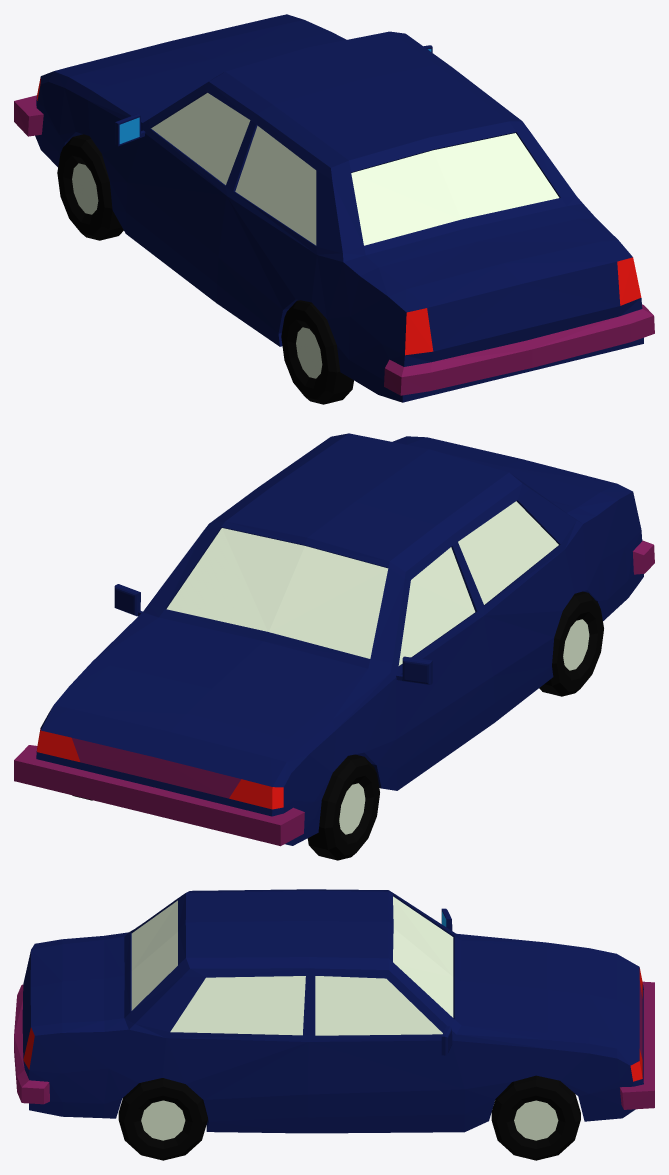
File: car_2.obj
The picture shows the model from 3 angles, top to bottom: view 1: azimuth 30°, elevation 25°; view 2: azimuth 150°, elevation 25°; view 3: azimuth 270°, elevation 25°; orthographic projection. The views are drawn at different scales.
Visible parts, largest first — view 1: body.003, tire2.002, tire1.004; view 2: body.003, tire1.004, tire2.002; view 3: body.003, tire1.004, tire2.002.
Boxes of the visible parts, <box> form: body.003: <box>14,14,654,402</box>; tire2.002: <box>281,300,353,404</box>; tire1.004: <box>57,134,123,240</box>; body.003: <box>14,433,654,846</box>; tire1.004: <box>72,754,379,860</box>; tire2.002: <box>539,591,603,696</box>; body.003: <box>14,889,654,1133</box>; tire1.004: <box>491,1075,580,1160</box>; tire2.002: <box>118,1078,207,1160</box>.
Size of the model in its own units: 2.68 by 1.81 by 5.67.
